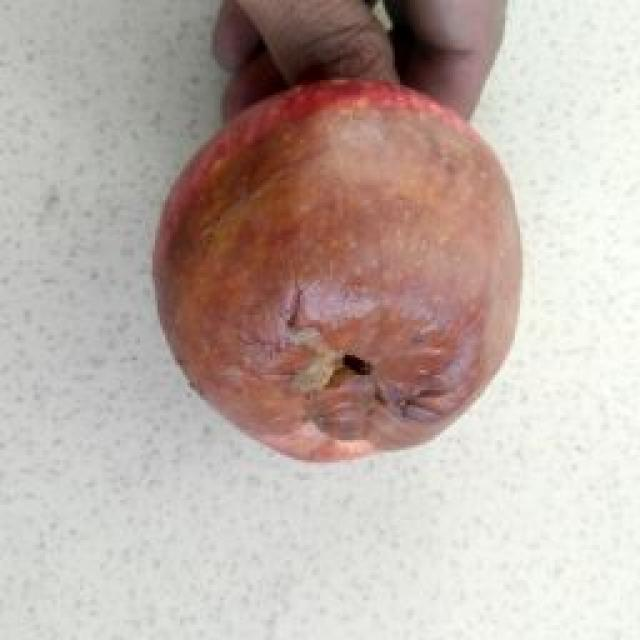Bad_Apple: (154, 81, 519, 459)
